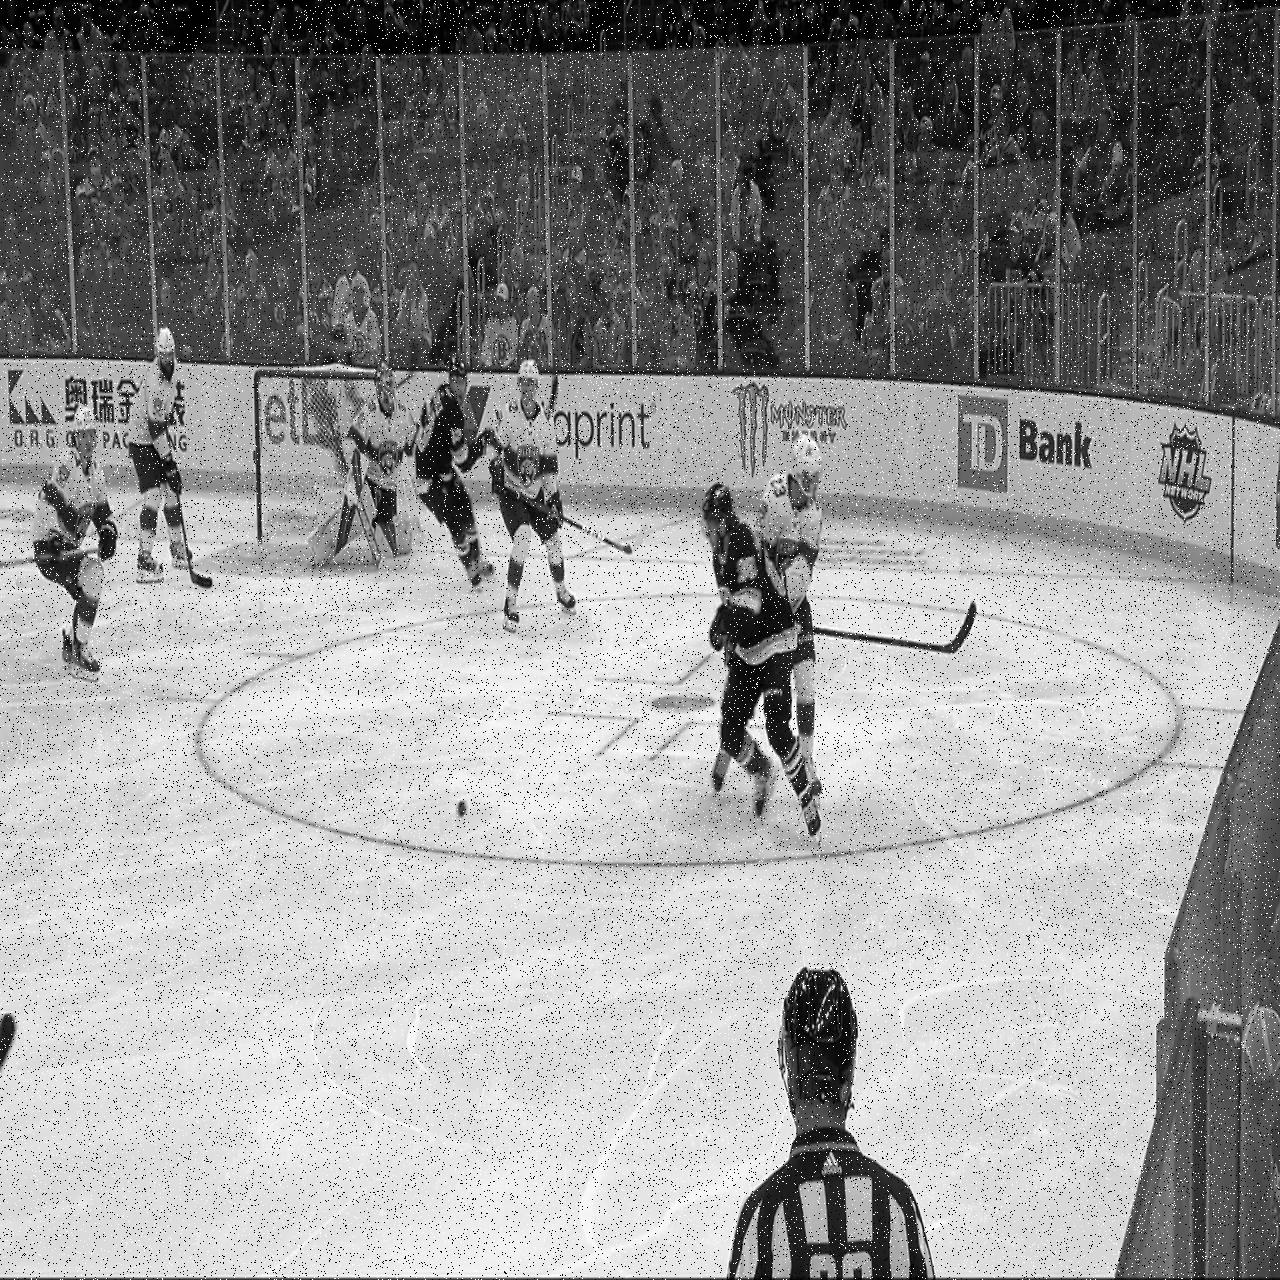Ad: (448, 374, 669, 484), (7, 360, 197, 461), (956, 383, 1101, 515), (726, 377, 857, 486), (1157, 420, 1214, 535)
